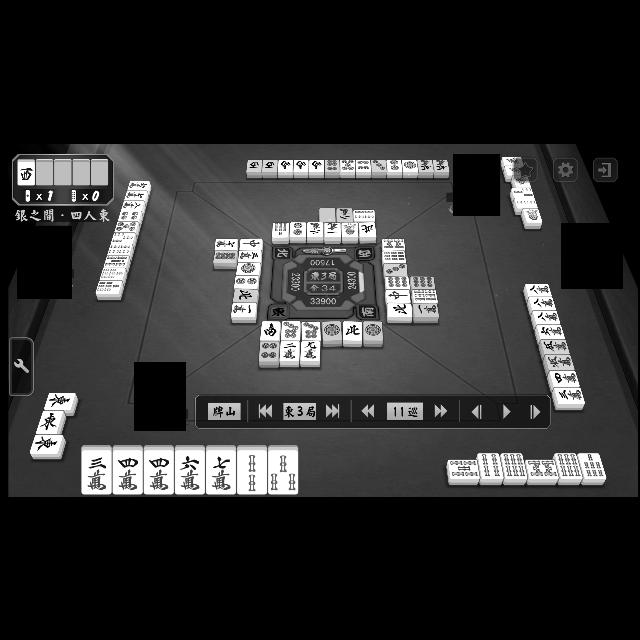1m: (414, 302, 438, 324), (232, 302, 256, 320), (325, 221, 341, 243)
1p: (322, 320, 342, 340), (363, 320, 383, 338), (402, 158, 416, 178), (237, 262, 259, 274)
1s: (520, 208, 542, 228), (342, 222, 358, 242)
2m: (279, 339, 299, 361), (307, 220, 323, 243), (337, 208, 353, 222)
2p: (386, 156, 402, 180), (290, 221, 306, 243), (235, 274, 259, 286)
2s: (237, 450, 267, 494), (513, 196, 539, 208)
3m: (82, 449, 110, 493), (552, 387, 586, 409), (238, 248, 262, 262)
3p: (384, 262, 408, 276), (370, 158, 388, 176)
3s: (270, 450, 298, 492), (112, 231, 134, 243), (512, 188, 534, 196)
4m: (115, 449, 144, 495), (144, 449, 174, 493), (548, 370, 580, 386)
4p: (260, 339, 280, 361), (356, 158, 370, 176), (118, 210, 142, 220)
4s: (479, 452, 503, 480), (108, 243, 132, 255), (354, 209, 376, 221)
5m: (543, 354, 575, 370), (539, 338, 569, 354), (418, 158, 432, 176), (434, 158, 448, 176)
5p: (340, 156, 354, 178), (115, 219, 139, 231)
5s: (446, 459, 478, 477), (103, 254, 129, 266)
6m: (176, 449, 204, 495), (534, 324, 566, 338), (128, 179, 150, 189)
6p: (325, 158, 339, 176)
6s: (502, 452, 528, 478), (557, 452, 581, 476), (412, 288, 438, 302)
7m: (208, 449, 236, 493), (215, 237, 238, 249), (125, 190, 147, 200)
7p: (282, 321, 300, 339), (303, 322, 321, 338)
7s: (578, 452, 606, 476), (96, 280, 122, 298), (273, 221, 289, 243), (100, 267, 126, 279)
8m: (524, 282, 552, 296), (530, 310, 562, 322), (526, 297, 556, 309), (123, 200, 145, 208)
8p: (214, 250, 236, 266)
8s: (526, 459, 558, 477), (381, 237, 405, 250)
9m: (302, 340, 321, 360)
9p: (409, 274, 435, 288), (382, 276, 410, 288)
9s: (381, 249, 407, 263)
chun: (384, 289, 410, 301), (240, 236, 262, 250)
haku: (318, 208, 336, 222)
nan: (262, 321, 280, 341), (294, 158, 310, 178), (278, 158, 294, 176), (310, 157, 324, 177)
pe: (386, 302, 412, 320), (343, 320, 362, 338), (359, 222, 376, 242), (234, 288, 258, 302)
sha: (18, 158, 34, 186), (246, 158, 262, 178), (263, 158, 277, 176)
tou: (30, 434, 68, 458), (46, 392, 76, 412), (39, 408, 60, 432)
